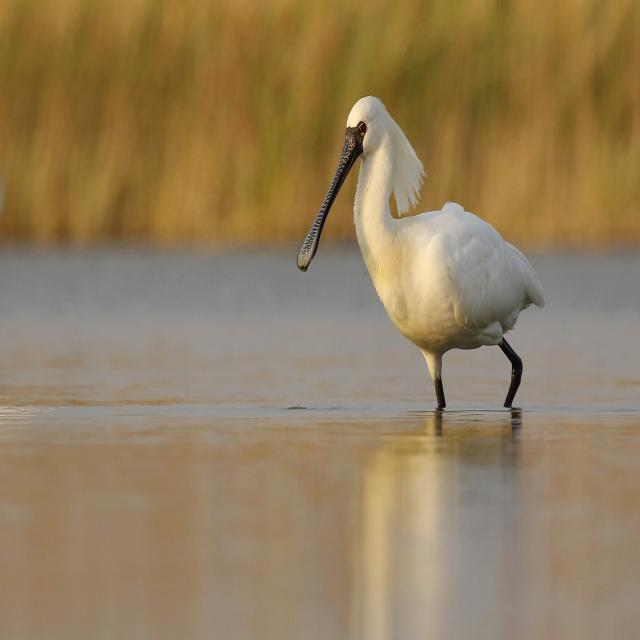Black-faced spoonbill: (298, 97, 544, 408)
